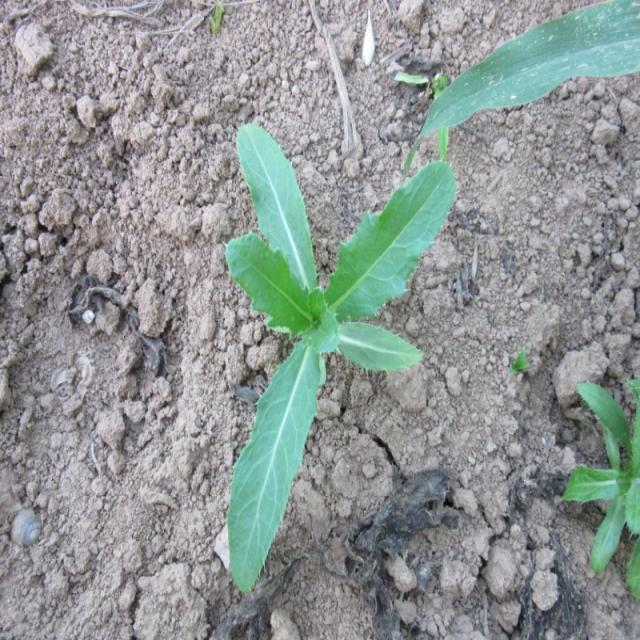cs: (222, 120, 461, 599)
